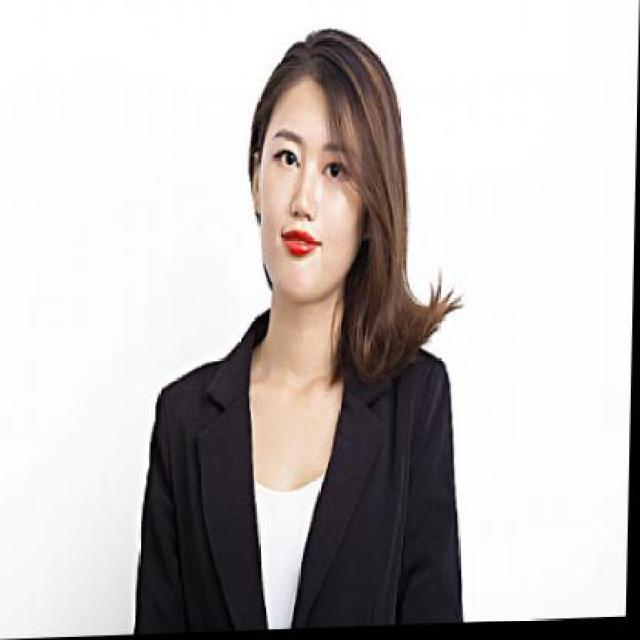Healthy: (272, 278, 338, 405)
